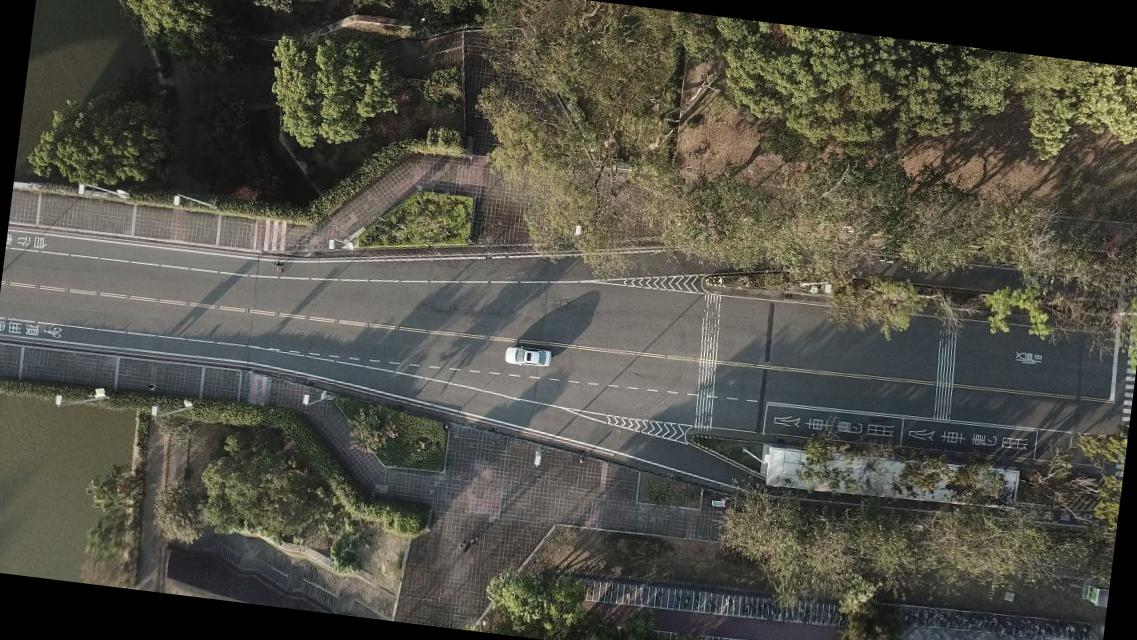vehicle: (503, 344, 552, 371)
